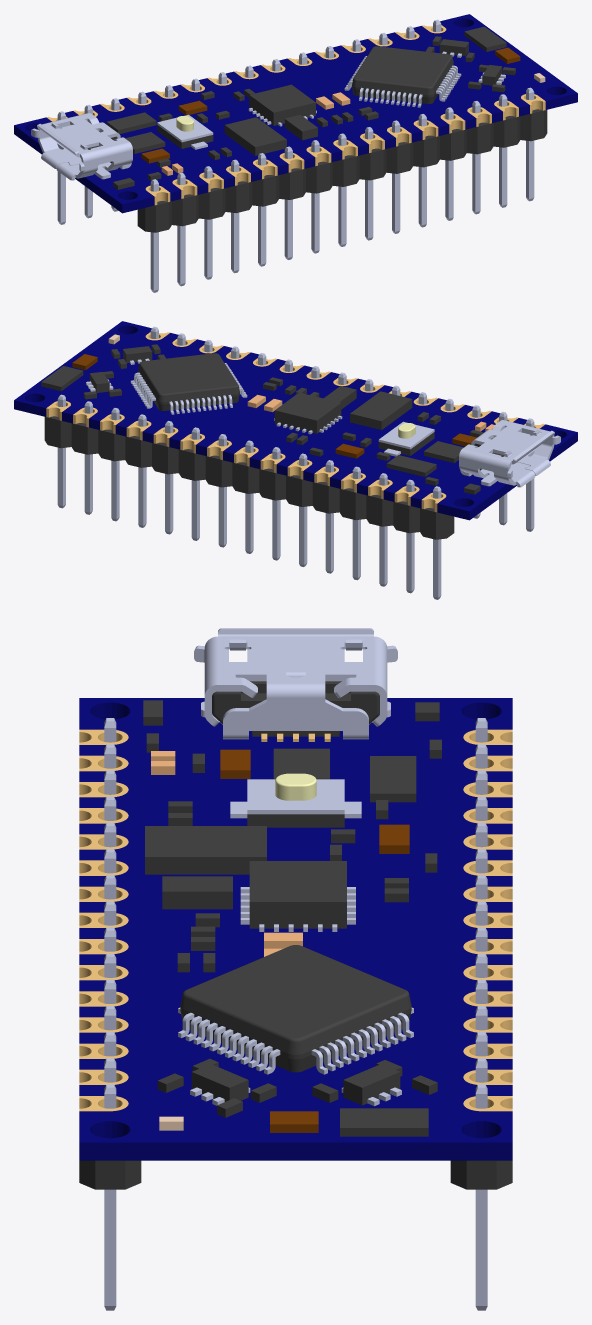
File: ABX00028-d8cd5526665d.glb
The picture shows the model from 3 angles, top to bottom: view 1: azimuth 30°, elevation 25°; view 2: azimuth 150°, elevation 25°; view 3: azimuth 270°, elevation 25°; orthographic projection. The views are drawn at different scales.
Visible parts, largest first — view 1: part-95, part-68, part-72, part-56, part-73, part-45, part-169, part-8, part-76, part-10, part-46, part-129 (+17 smaller); view 2: part-95, part-146, part-72, part-56, part-73, part-45, part-169, part-8, part-76, part-115, part-137, part-162 (+17 smaller); view 3: part-95, part-72, part-56, part-73, part-45, part-169, part-155, part-76, part-121, part-8, part-147, part-152 (+11 smaller).
Part boxes in pixels (x1,y1,x2,y2): part-95: (14,14,577,213); part-68: (137,109,547,232); part-72: (31,113,132,180); part-56: (352,46,453,103); part-73: (249,84,315,125); part-45: (224,117,286,155); part-169: (157,114,213,142); part-8: (106,112,156,133); part-76: (464,26,506,51); part-10: (499,94,507,207); part-46: (338,133,346,246); part-129: (204,166,212,279); part-95: (14,321,577,520); part-146: (44,416,454,539); part-72: (459,420,560,487); part-56: (138,353,239,410); part-73: (274,392,341,433); part-45: (350,391,412,429); part-169: (378,421,434,449); part-8: (386,455,436,476); part-76: (41,366,83,391); part-115: (84,401,92,514); part-137: (245,440,253,553); part-162: (379,473,387,586); part-95: (79,698,512,1160); part-72: (194,628,397,739); part-56: (180,945,411,1072); part-73: (249,861,346,928); part-45: (145,826,266,874); part-169: (247,779,344,814); part-155: (212,681,379,736); part-76: (340,1108,428,1136); part-121: (162,876,232,909); part-8: (370,756,416,802); part-147: (104,1084,116,1310); part-152: (475,1084,487,1310).
Size of the model in its own units: 44.33 by 12 by 17.78.
